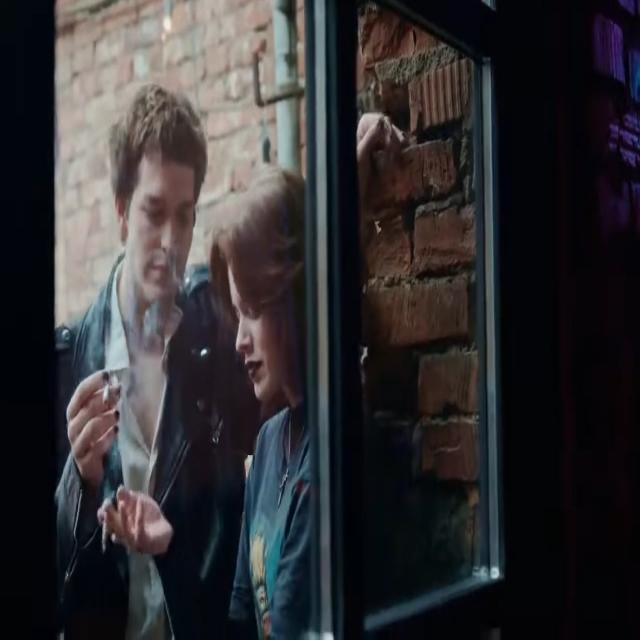Курение: (100, 508, 110, 556), (100, 378, 114, 408)
